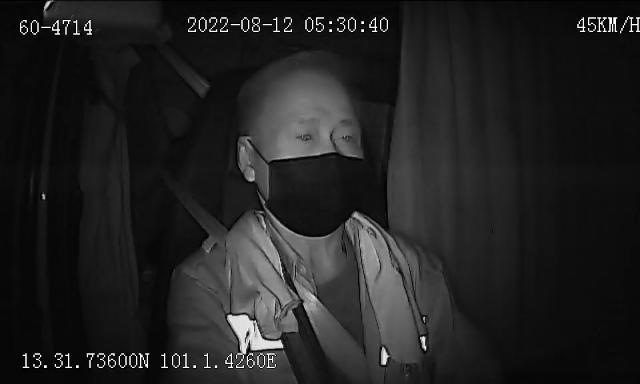SafeDriving: (331, 122, 362, 150), (287, 124, 322, 148)
Seatbelt: (168, 174, 370, 384)
